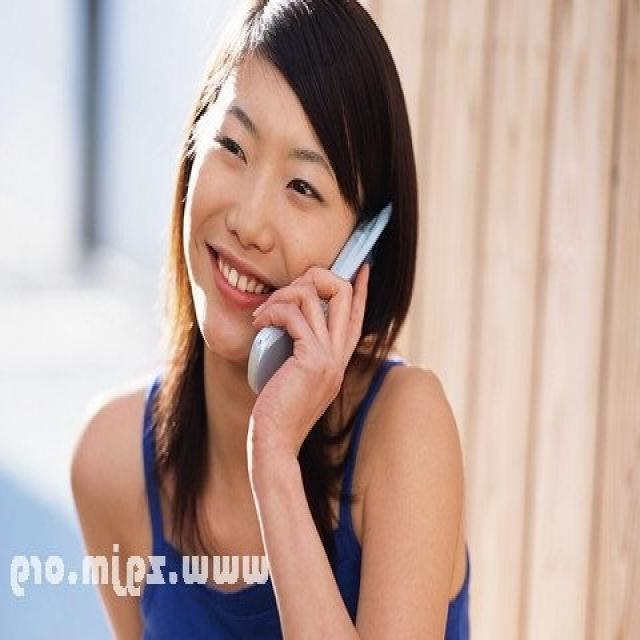phone: (237, 122, 413, 414)
